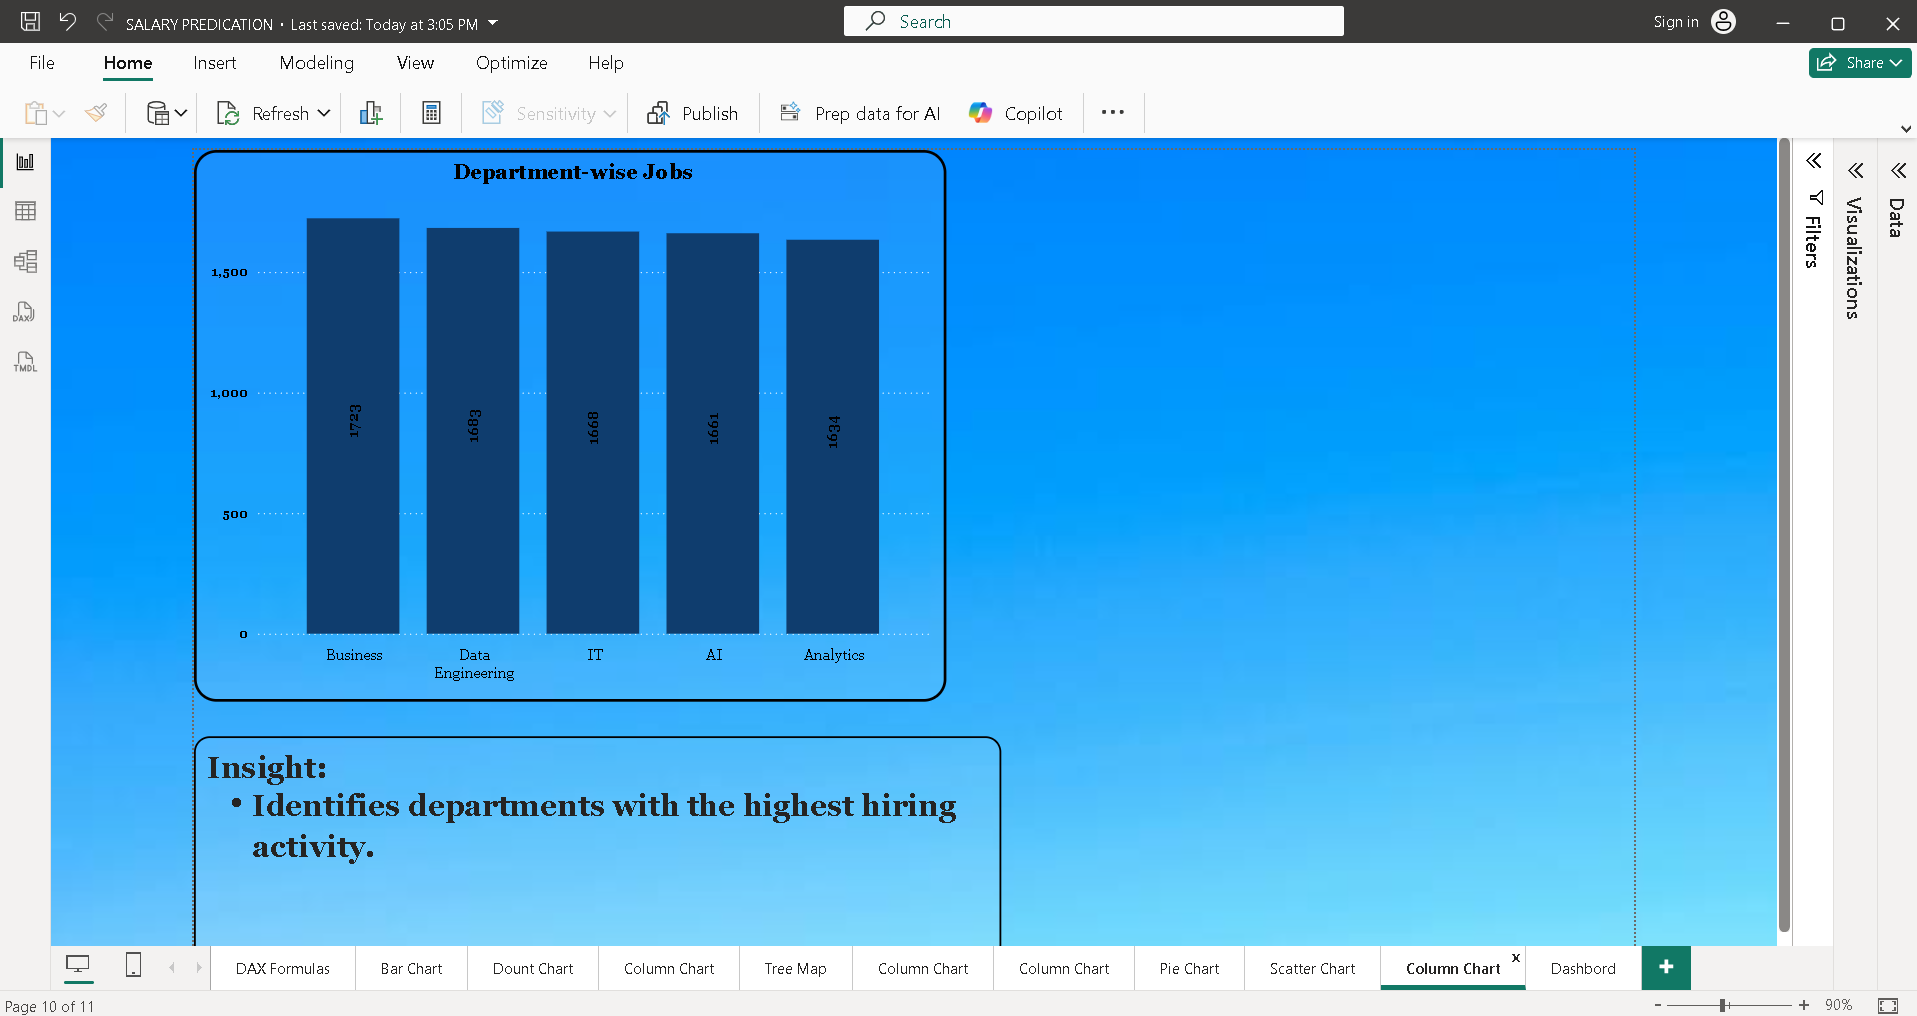

The dashboard page shown, as its layout file describes it:
{"tool":"powerbi","page":{"name":"Column Chart ","canvas":[1280,720],"ordinal":9},"visuals":[{"type":"clusteredColumnChart","title":"Department-wise Jobs","fields":{"Category":["clean_job_market_salary_fixed.Department"],"Y":["CountNonNull(clean_job_market_salary_fixed.Job_ID)"]},"box":[0,0,668.9,490.4],"z":0},{"type":"textbox","box":[0,520.9,717.8,199.3],"z":1000}]}

Visuals, with their boxes on the page's 1280x720 design canvas (x1, y1, x2, y2). These are canvas units, not pixel positions in the 1917x1016 screenshot, which may show the page scaled, cropped or inside an application window:
"Department-wise Jobs" clusteredColumnChart: bbox=(0, 0, 669, 490)
textbox: bbox=(0, 521, 718, 720)
